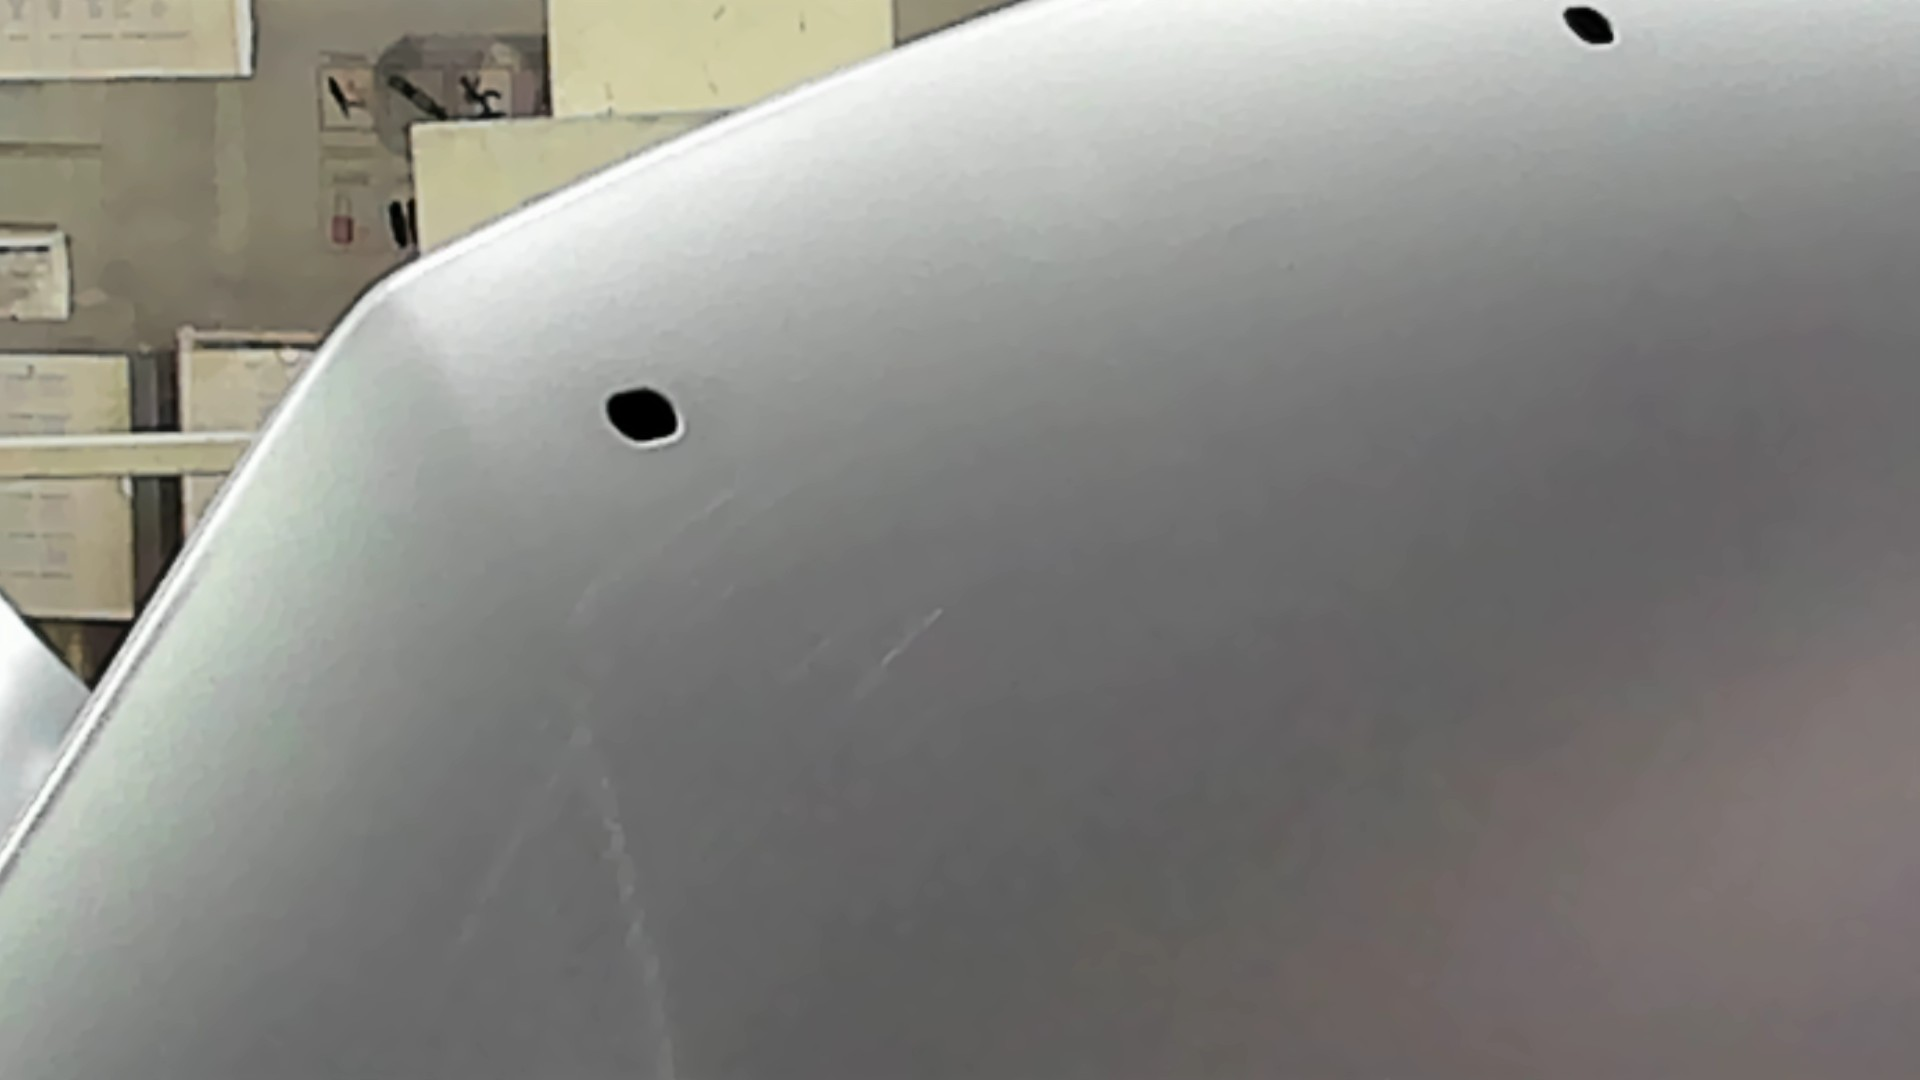amorfo: (601, 382, 684, 450), (1556, 3, 1621, 53)
capo: (766, 142, 1920, 1080)
